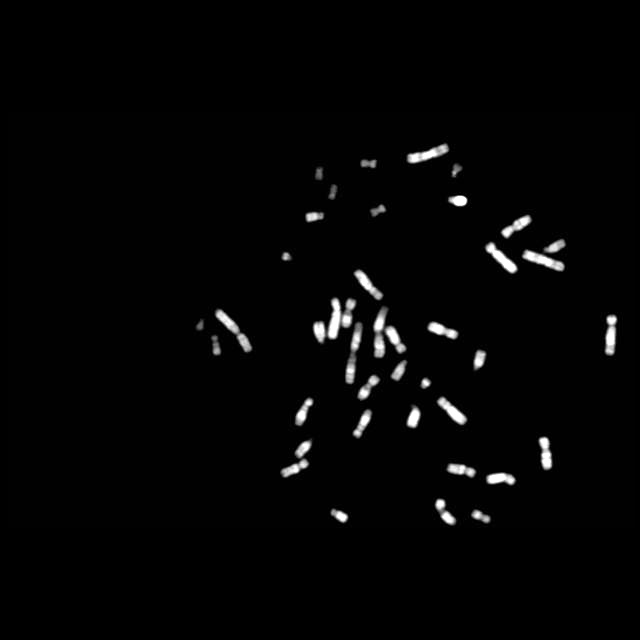chromosome: (216, 308, 252, 352), (484, 241, 518, 275), (345, 322, 363, 383), (520, 250, 564, 272), (437, 396, 468, 426), (407, 142, 449, 162), (356, 268, 382, 300), (372, 306, 388, 358), (501, 215, 531, 238), (352, 409, 372, 439), (603, 315, 617, 357), (326, 298, 340, 338), (386, 325, 406, 353), (281, 458, 309, 478), (428, 321, 458, 339), (358, 375, 380, 399), (295, 398, 313, 427), (435, 500, 455, 524), (538, 436, 552, 469), (342, 298, 356, 328), (448, 463, 477, 477), (544, 236, 566, 254), (487, 472, 515, 486), (470, 348, 486, 372), (404, 406, 420, 428), (391, 360, 407, 380), (329, 508, 348, 524), (295, 439, 311, 457), (470, 510, 490, 524), (314, 321, 326, 344), (368, 204, 386, 218), (448, 195, 468, 207), (314, 164, 326, 183), (306, 210, 324, 222), (451, 162, 462, 180), (360, 158, 376, 170), (328, 185, 338, 201), (212, 334, 220, 354), (282, 250, 293, 262), (420, 378, 430, 390), (196, 318, 204, 330)
